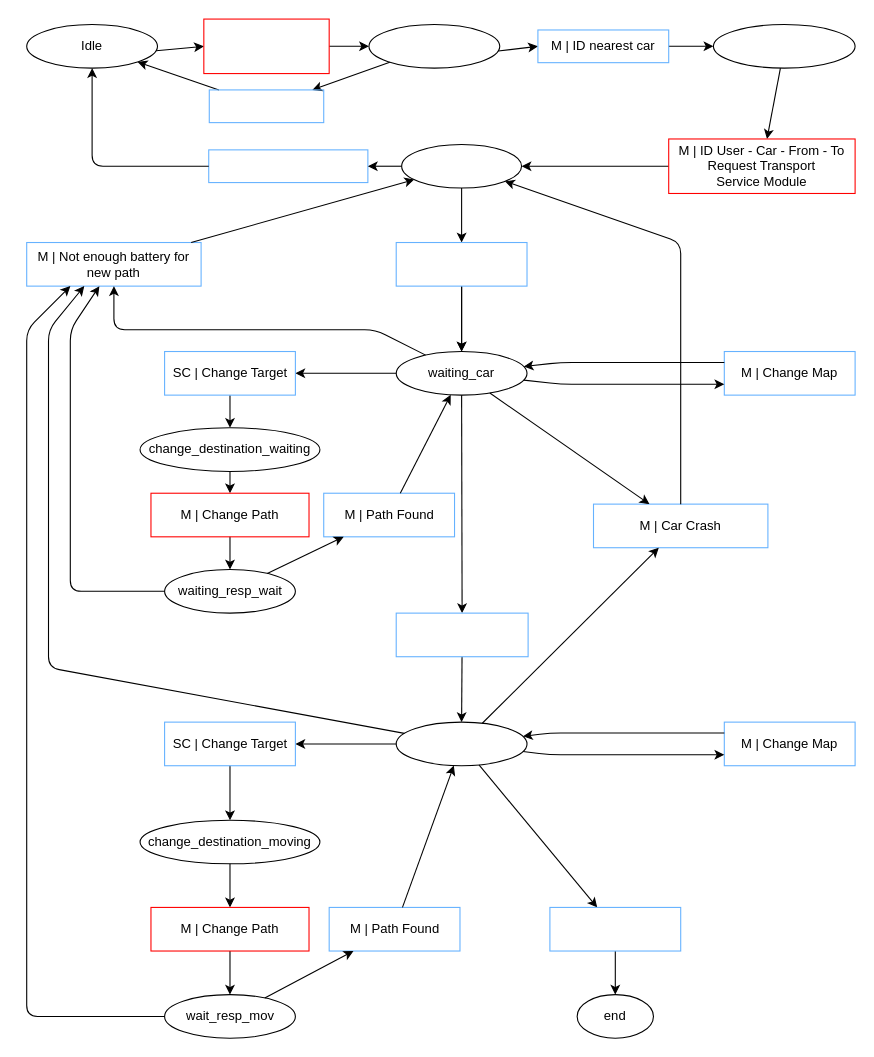
The diagram is 874 pixels wide and 1057 high, and some of its shapes have lost their labels. Here are the shapes that lost their labels. From the top down, the box of each, then its label:
(203, 18, 329, 74): M | ID User Request Car Service Module
(368, 23, 500, 68): Waiting Response
(712, 23, 855, 68): sending_request
(208, 89, 324, 123): M | No car near
(208, 149, 368, 183): M | No Car Avaiable
(401, 143, 522, 188): waiting_election
(395, 241, 527, 286): M | ID Car winner
(395, 612, 528, 657): M | User Position
(395, 721, 527, 766): moving
(549, 906, 681, 951): M | Target Position
